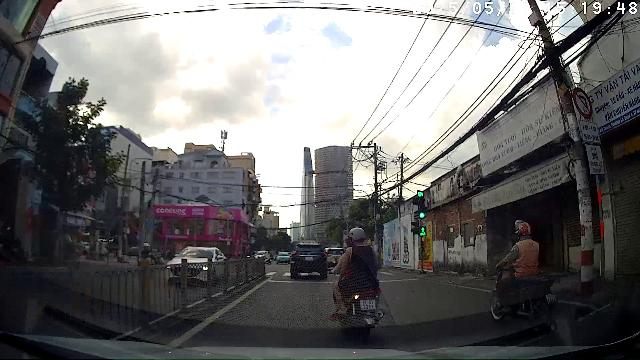103c-cam-oto-re-trai: (573, 87, 593, 119)
